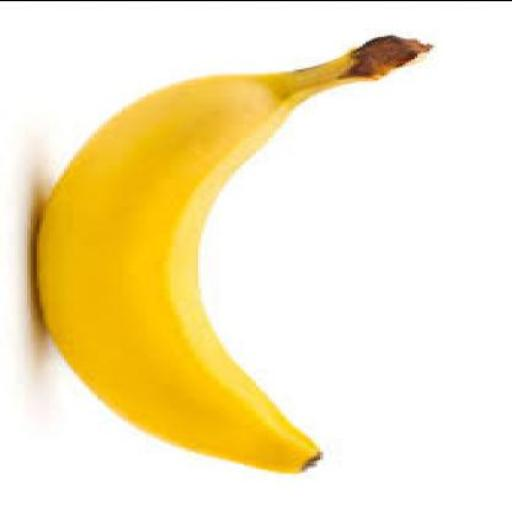biodegradable: (33, 31, 436, 471)
